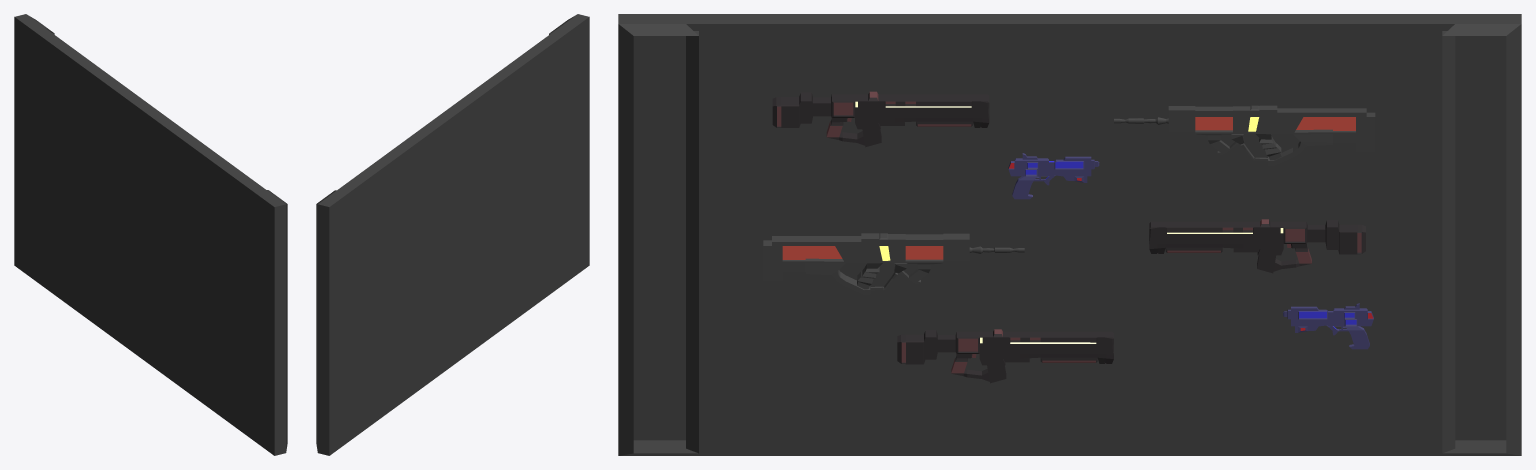
The model's file is Spaceholder thingy.fbx.
3 views of the same model, side by side, from view 1: azimuth 30°, elevation 25°; view 2: azimuth 150°, elevation 25°; view 3: azimuth 270°, elevation 25° (orthographic). The views are drawn at different scales.
Parts seen in each view (by area): view 1: Cube; view 2: Cube; view 3: Cube, Cube.005, Cube.001, Cube.002, Cube.007, Cube.004, Cube.003, Cube.006.
Boxes of the visible parts, box(x1,y1,x2,y2) form: Cube: box(14, 14, 287, 455); Cube: box(316, 14, 589, 455); Cube: box(618, 14, 1521, 455); Cube.005: box(763, 233, 1024, 294); Cube.001: box(1114, 105, 1375, 165); Cube.002: box(772, 91, 989, 147); Cube.007: box(897, 329, 1113, 383); Cube.004: box(1149, 219, 1365, 273); Cube.003: box(1008, 153, 1099, 199); Cube.006: box(1283, 303, 1373, 349).
Bounding box in the file's own units: 42.45 × 451 × 855.
